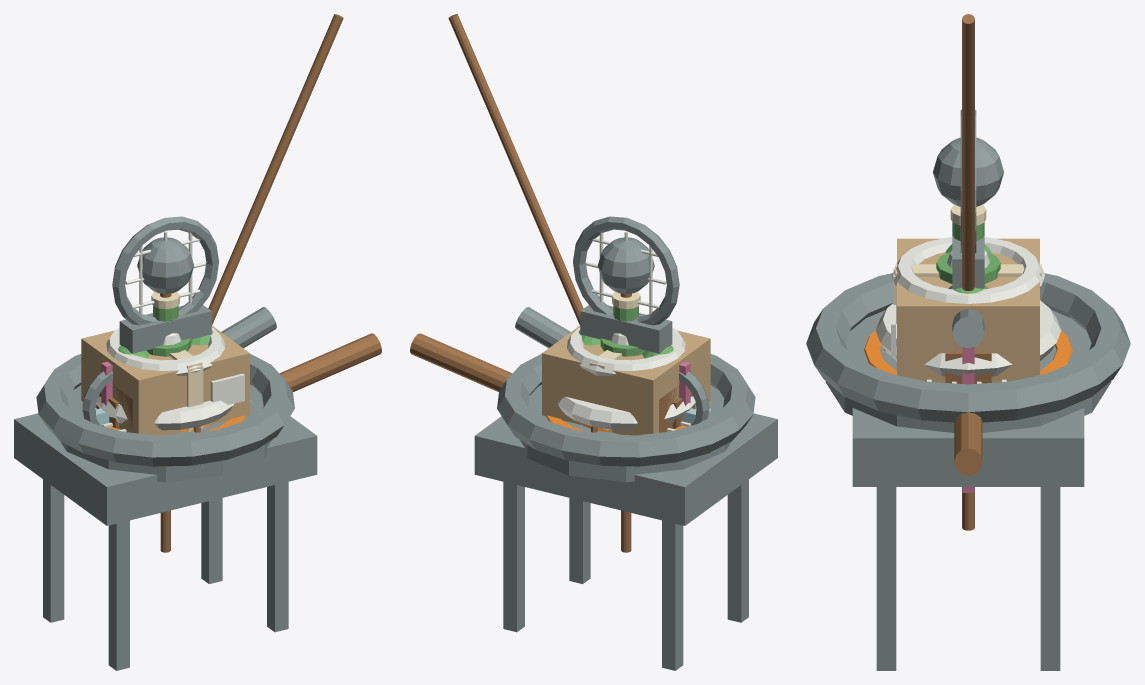
Rendered from micro-props.glb.
The picture shows the model from 3 angles, left to right: view 1: azimuth 30°, elevation 25°; view 2: azimuth 150°, elevation 25°; view 3: azimuth 270°, elevation 25°; orthographic projection. The views are drawn at different scales.
Parts seen in each view (by area): view 1: micro_burner, micro_wok, micro_parcel, micro_racket, micro_pot, micro_rod, micro_ladle, micro_hammer, micro_bowl, micro_bottle, micro_basket; view 2: micro_burner, micro_wok, micro_parcel, micro_racket, micro_pot, micro_rod, micro_ladle, micro_hammer, micro_bowl, micro_bottle, micro_basket; view 3: micro_wok, micro_burner, micro_parcel, micro_pot, micro_rod, micro_ladle, micro_bowl, micro_bottle, micro_hammer, micro_briefcase, micro_racket, micro_stream.
Boxes of the visible parts, x1,y1,x2,y2 form: micro_burner: (14, 403, 317, 670); micro_wok: (36, 333, 381, 482); micro_parcel: (81, 326, 249, 435); micro_racket: (112, 216, 218, 325); micro_pot: (82, 307, 276, 425); micro_rod: (208, 14, 343, 325); micro_ladle: (137, 237, 194, 297); micro_hammer: (119, 305, 211, 353); micro_bowl: (96, 396, 234, 430); micro_bottle: (146, 292, 191, 356); micro_basket: (113, 330, 213, 429); micro_burner: (474, 403, 777, 670); micro_wok: (410, 333, 755, 482); micro_parcel: (542, 326, 710, 435); micro_racket: (573, 216, 679, 325); micro_pot: (515, 307, 709, 425); micro_rod: (448, 14, 583, 325); micro_ladle: (597, 237, 654, 297); micro_hammer: (580, 305, 672, 353); micro_bowl: (557, 396, 695, 430); micro_bottle: (600, 292, 645, 356); micro_basket: (578, 330, 679, 432); micro_wok: (806, 273, 1130, 475); micro_burner: (852, 331, 1084, 670); micro_parcel: (891, 238, 1041, 382); micro_pot: (892, 237, 1044, 348); micro_rod: (962, 14, 974, 290); micro_ladle: (933, 137, 1003, 206); micro_bowl: (875, 300, 1061, 376); micro_bottle: (936, 205, 1000, 283); micro_hammer: (952, 235, 984, 288); micro_briefcase: (945, 351, 991, 383); micro_racket: (960, 109, 976, 253); micro_stream: (962, 487, 974, 530).
Size of the model in its own units: 1.31 by 2.19 by 0.91.
